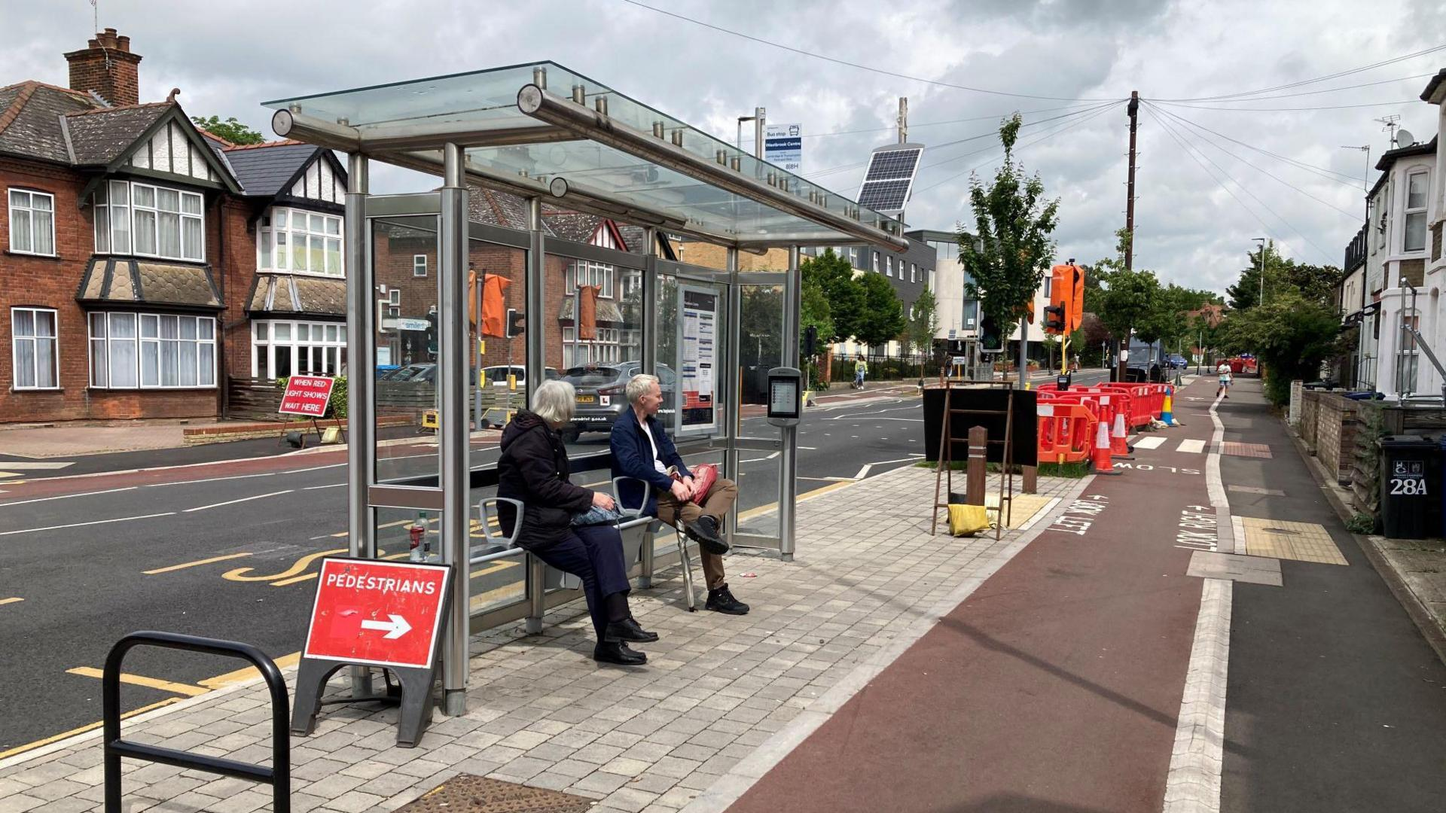Person: (502, 378, 662, 671), (612, 363, 753, 620)
